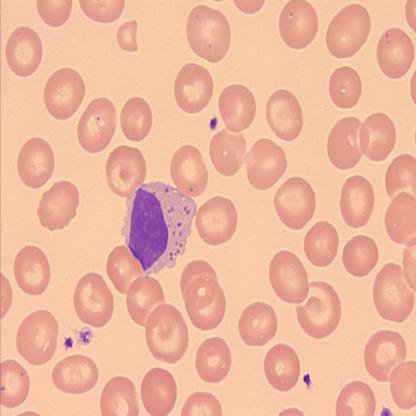Atypical lymphocyte: (123, 180, 196, 279)
